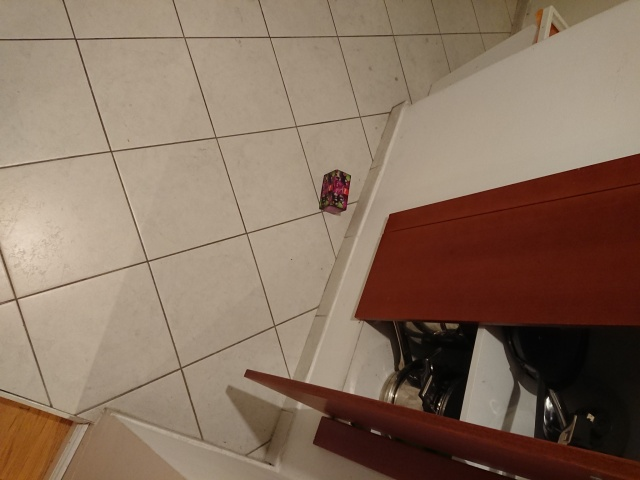Franck Black Currant Tea 60g: (317, 167, 353, 216)
